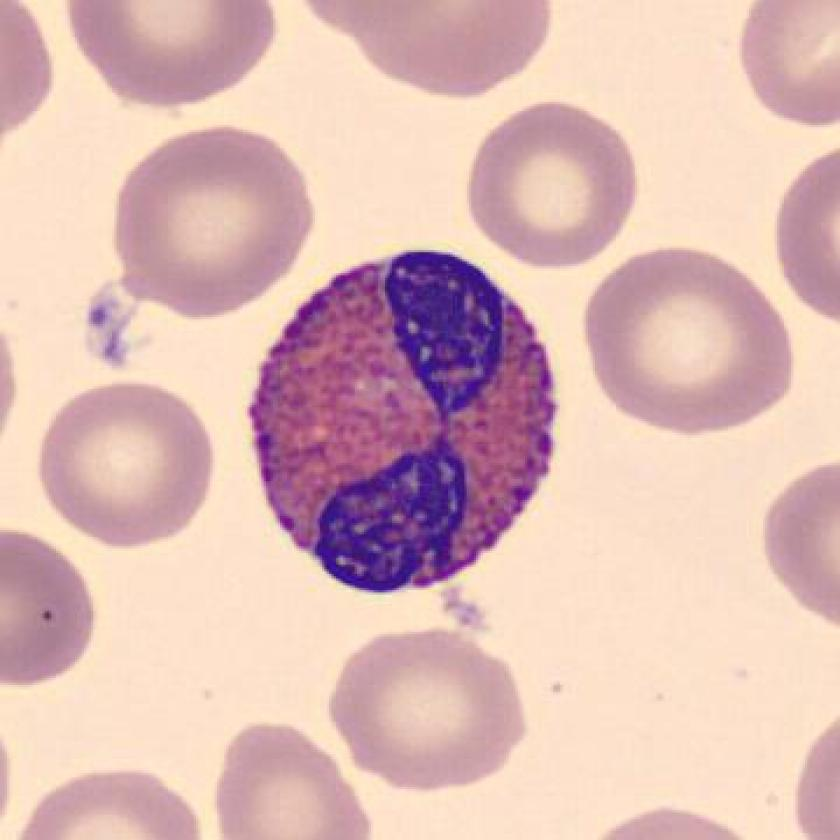eosinophil: (239, 230, 570, 603)
